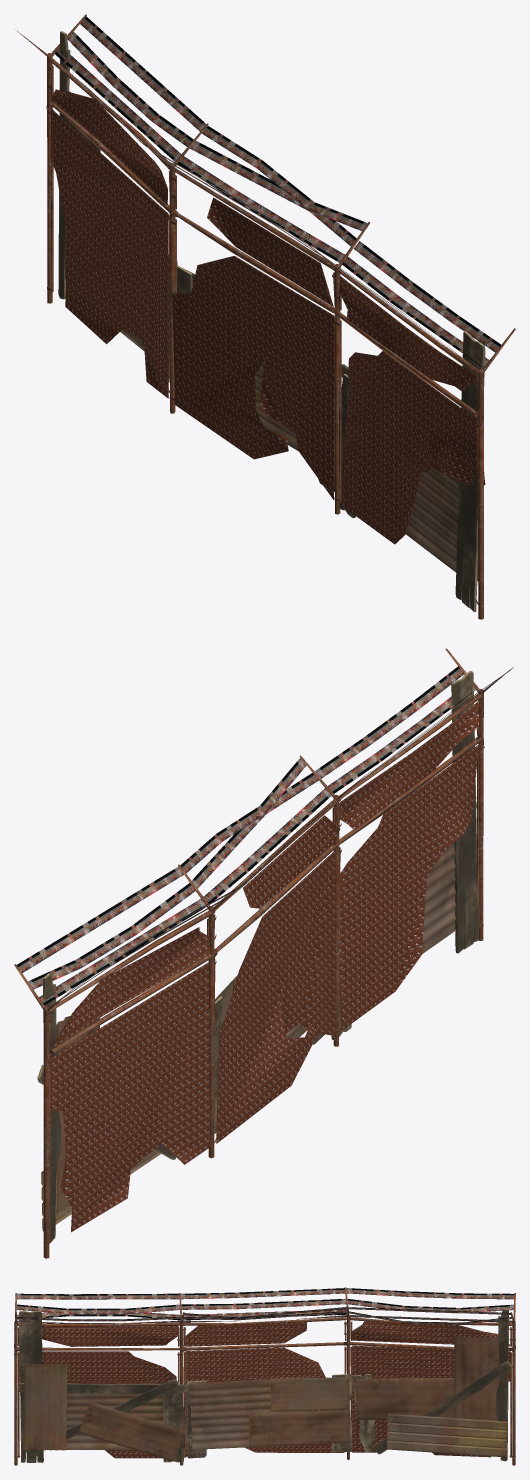
The model's file is chainlink_fence_3x9_boarded_a.glb.
3 views of the same model, one above another, from view 1: azimuth 30°, elevation 25°; view 2: azimuth 150°, elevation 25°; view 3: azimuth 270°, elevation 25° (orthographic). The views are drawn at different scales.
Visible parts, largest first — view 1: chainlink_fence_3x9_LOD0, cover_c_LOD0, cover_d_LOD0, cover_e_LOD0; view 2: chainlink_fence_3x9_LOD0, cover_c_LOD0, cover_d_LOD0, cover_e_LOD0; view 3: chainlink_fence_3x9_LOD0, cover_c_LOD0, cover_d_LOD0, cover_e_LOD0.
Boxes of the visible parts, left/top/right/bottom form: chainlink_fence_3x9_LOD0: left=15, top=14, right=515, bottom=619; cover_c_LOD0: left=339, top=331, right=485, bottom=611; cover_d_LOD0: left=58, top=31, right=177, bottom=382; cover_e_LOD0: left=174, top=265, right=334, bottom=491; chainlink_fence_3x9_LOD0: left=14, top=648, right=513, bottom=1258; cover_c_LOD0: left=331, top=671, right=478, bottom=1039; cover_d_LOD0: left=37, top=973, right=176, bottom=1241; cover_e_LOD0: left=209, top=974, right=324, bottom=1133; chainlink_fence_3x9_LOD0: left=14, top=1287, right=515, bottom=1465; cover_c_LOD0: left=18, top=1311, right=186, bottom=1462; cover_d_LOD0: left=352, top=1308, right=512, bottom=1461; cover_e_LOD0: left=186, top=1374, right=351, bottom=1458.
Bounding box in the file's own units: 1.07 × 3.21 × 8.99.
Materials: 3 (3 with a texture image).
